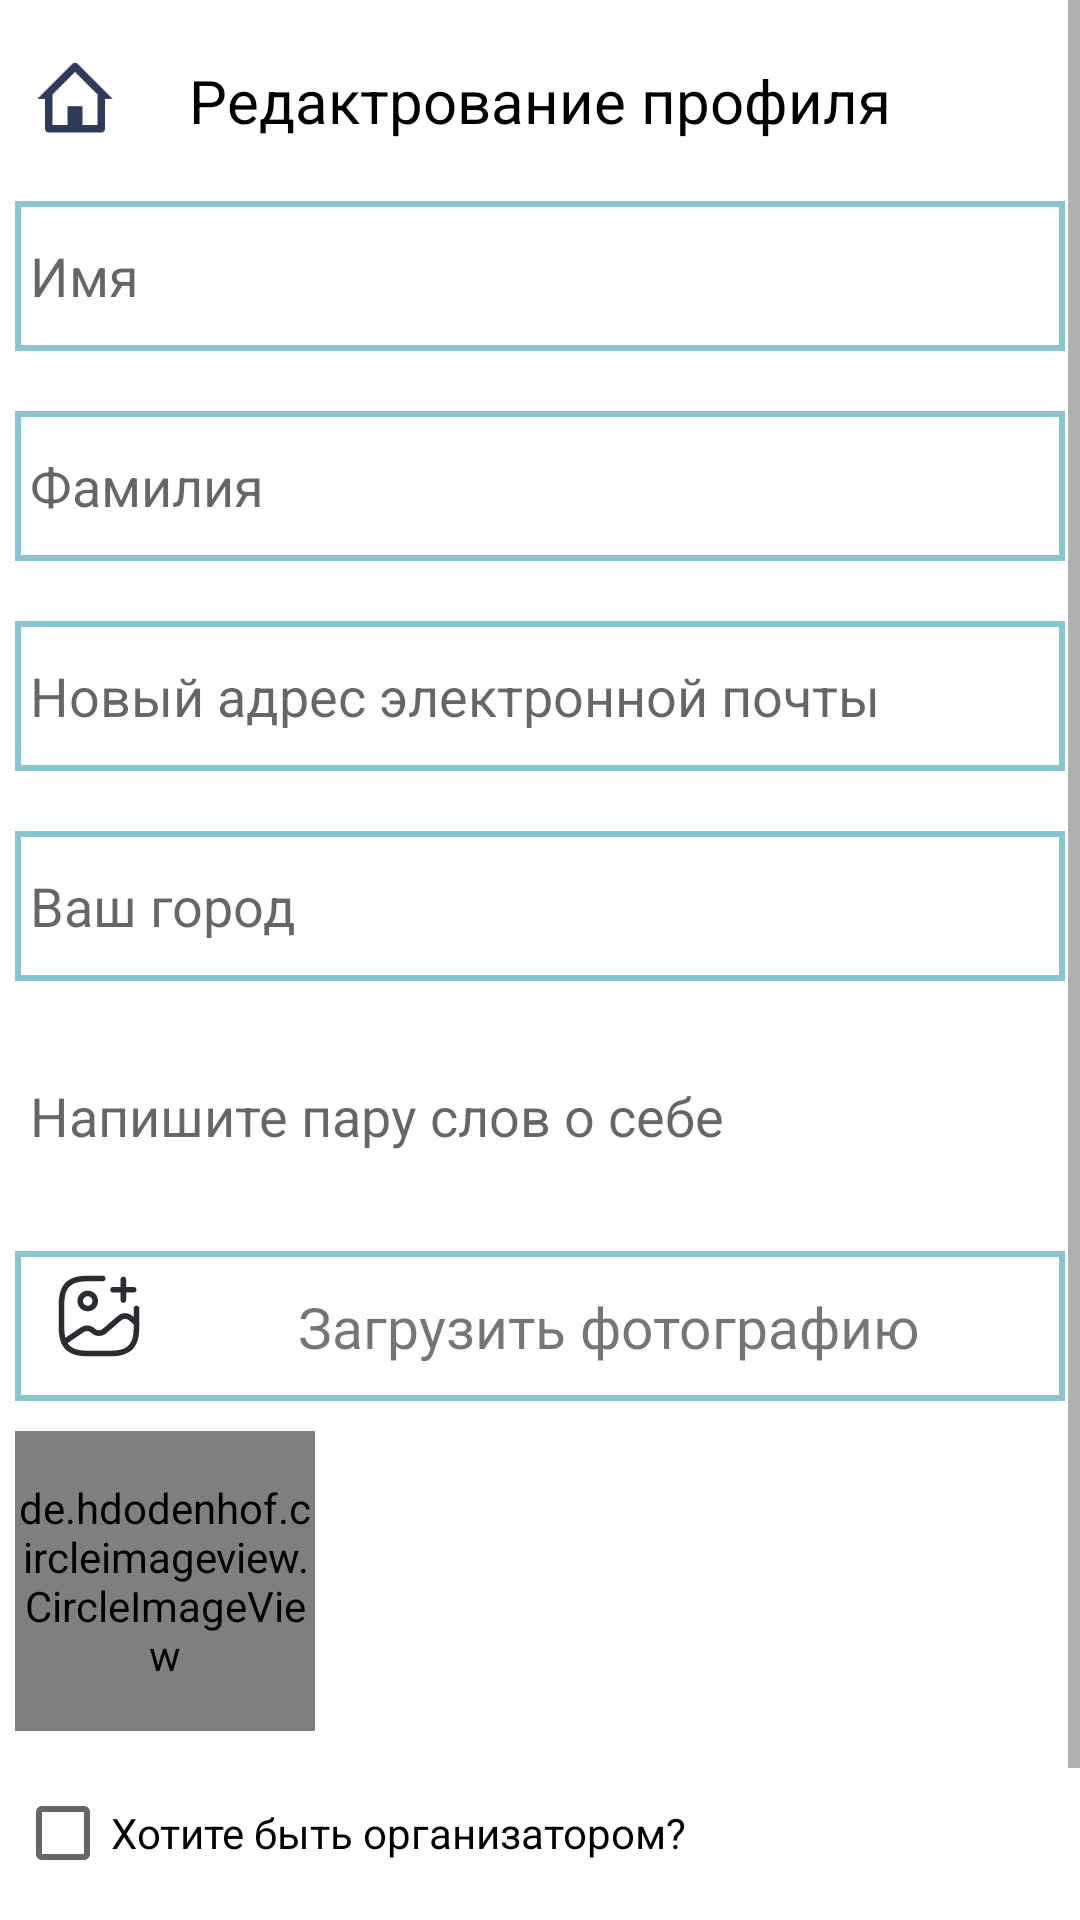

Where icons sit on this 1080*1920 app screen, as (x1, y1, x2, y2):
load from gallery: (58, 1275, 140, 1357)
profile home: (37, 62, 113, 133)
